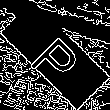P_NE: (24, 24, 86, 86)
